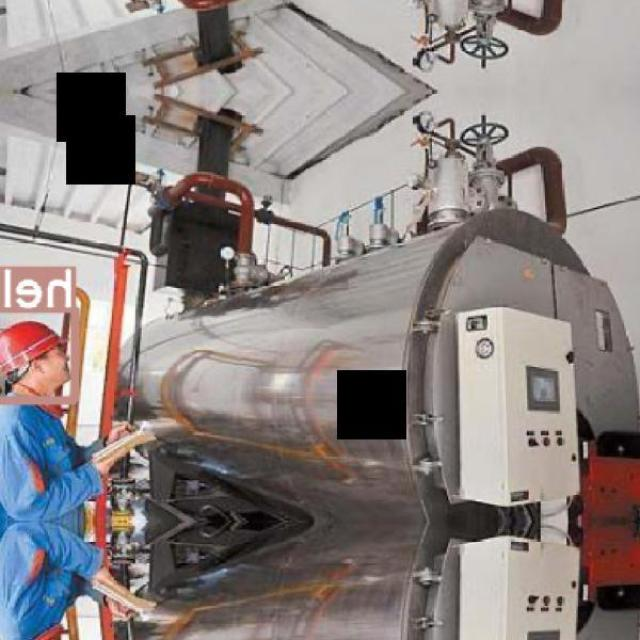helmet: (0, 320, 69, 381)
